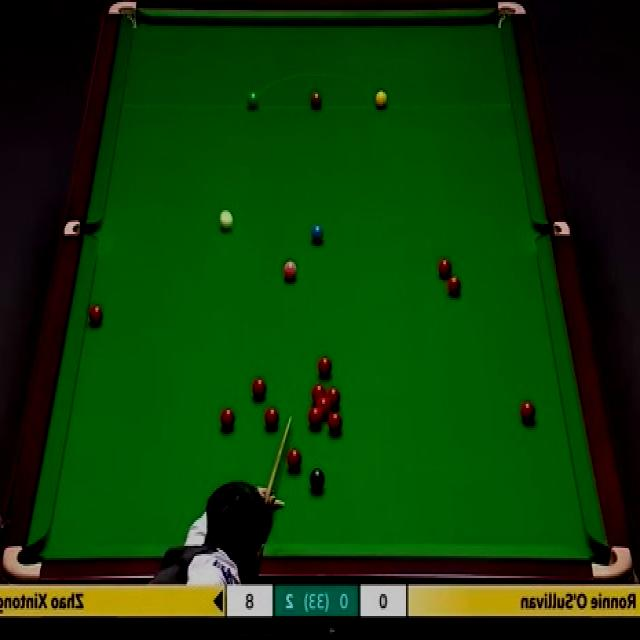black-ball: (310, 467, 326, 492)
blue-ball: (310, 222, 324, 247)
brown-ball: (310, 90, 323, 109)
green-ball: (246, 90, 259, 109)
pink-ball: (282, 260, 298, 282)
red-ball: (218, 406, 238, 434), (252, 374, 268, 403), (264, 406, 280, 434), (286, 445, 301, 474), (520, 400, 536, 426), (447, 274, 462, 300), (310, 383, 326, 406), (328, 412, 343, 436), (89, 304, 103, 329), (317, 356, 332, 379), (326, 386, 340, 410), (438, 256, 451, 281), (308, 406, 322, 429), (316, 398, 330, 418)
white-ball: (219, 208, 234, 232)
yellow-ball: (375, 90, 388, 109)
